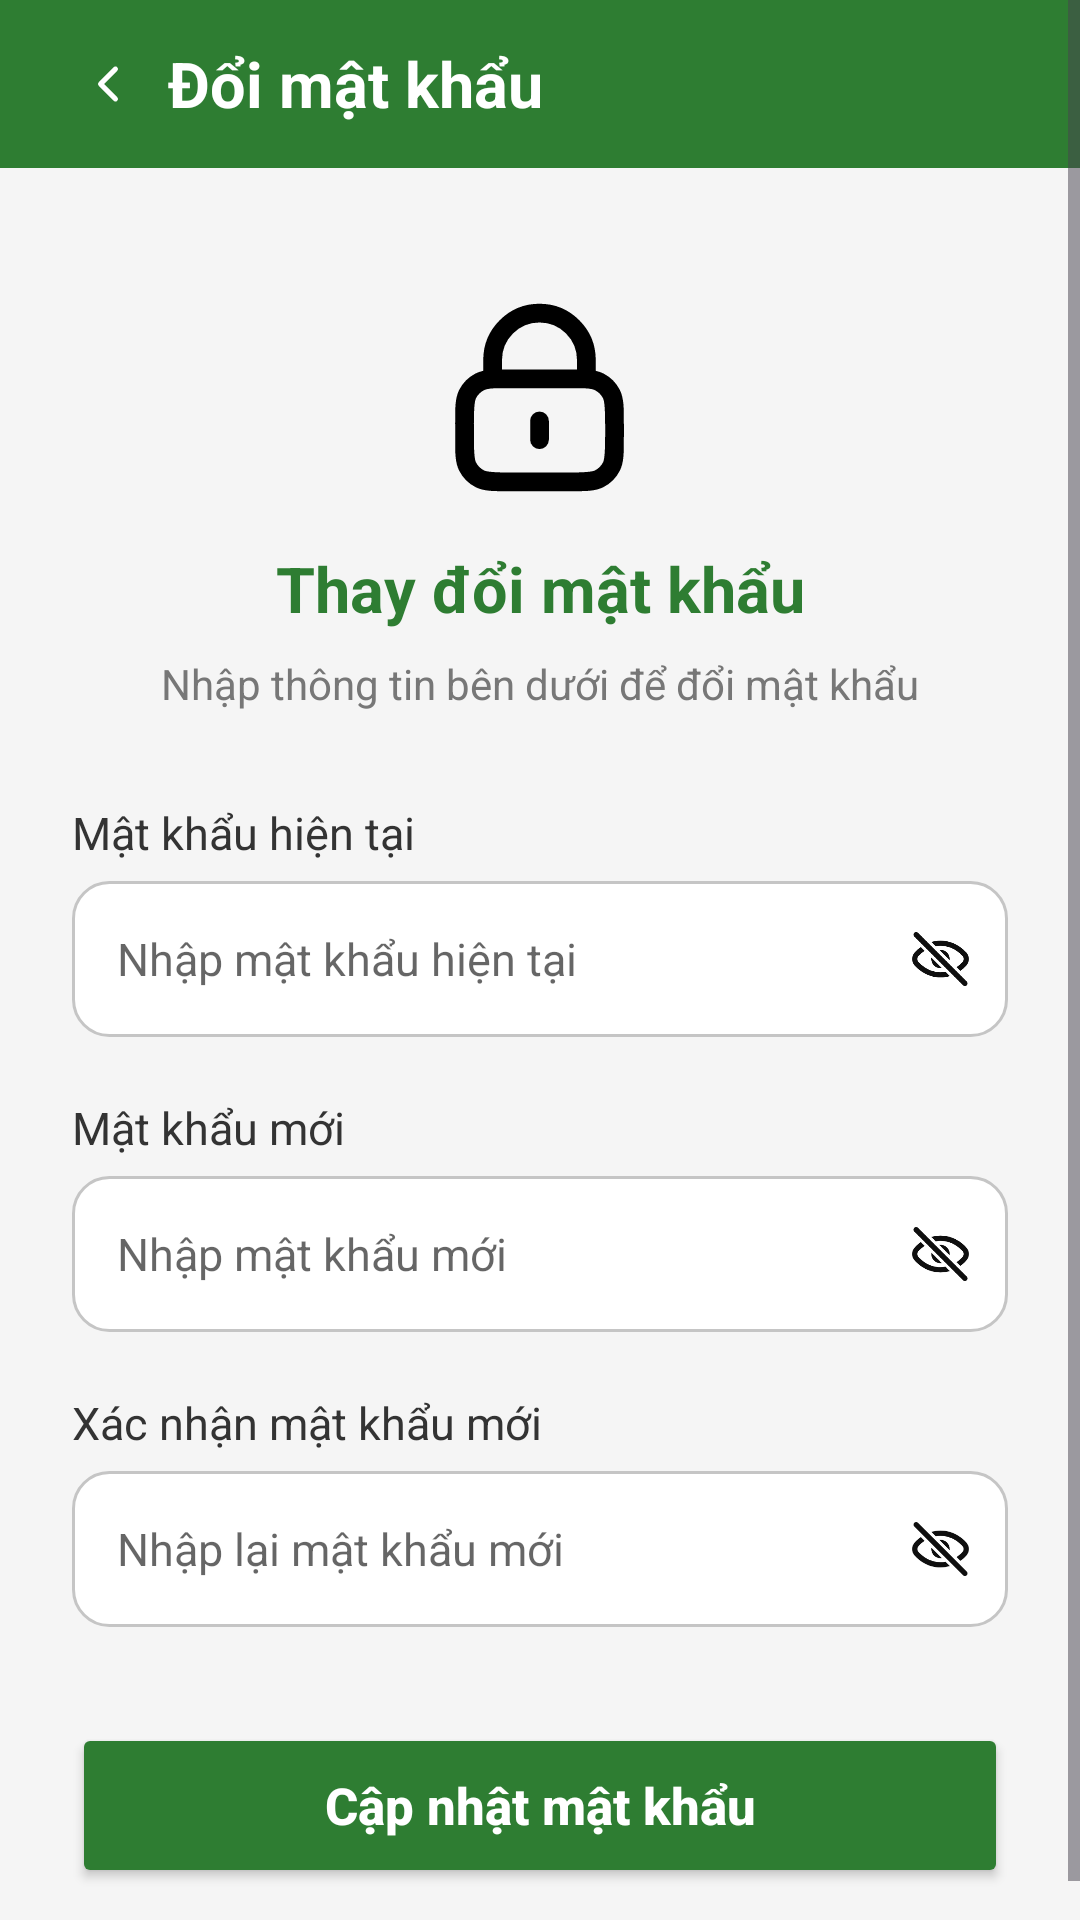

Where icons sit on this 1080x1920 app screen, as bbox=[x1, y1, x2, y2]:
Bảo mật: bbox=[455, 303, 624, 492]
Quay lại: bbox=[98, 66, 118, 102]
